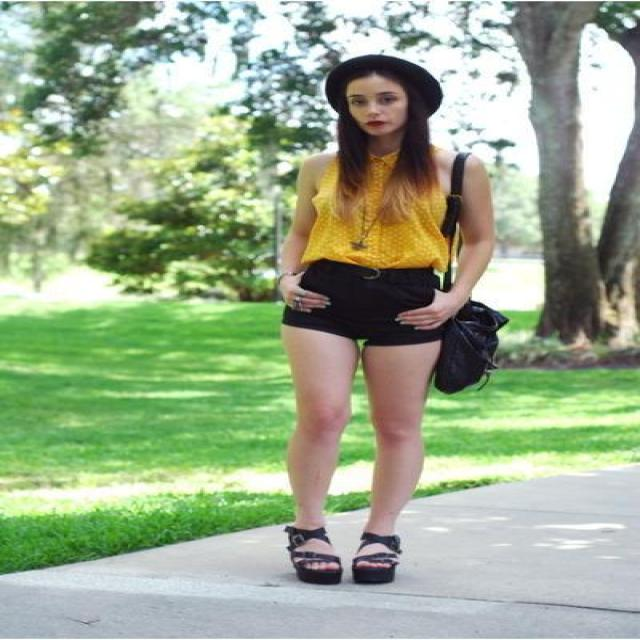bag: (427, 192, 507, 394)
hat: (326, 56, 440, 114)
shirt: (299, 141, 453, 276)
shoe: (276, 524, 402, 586)
shorts: (282, 278, 466, 358)
